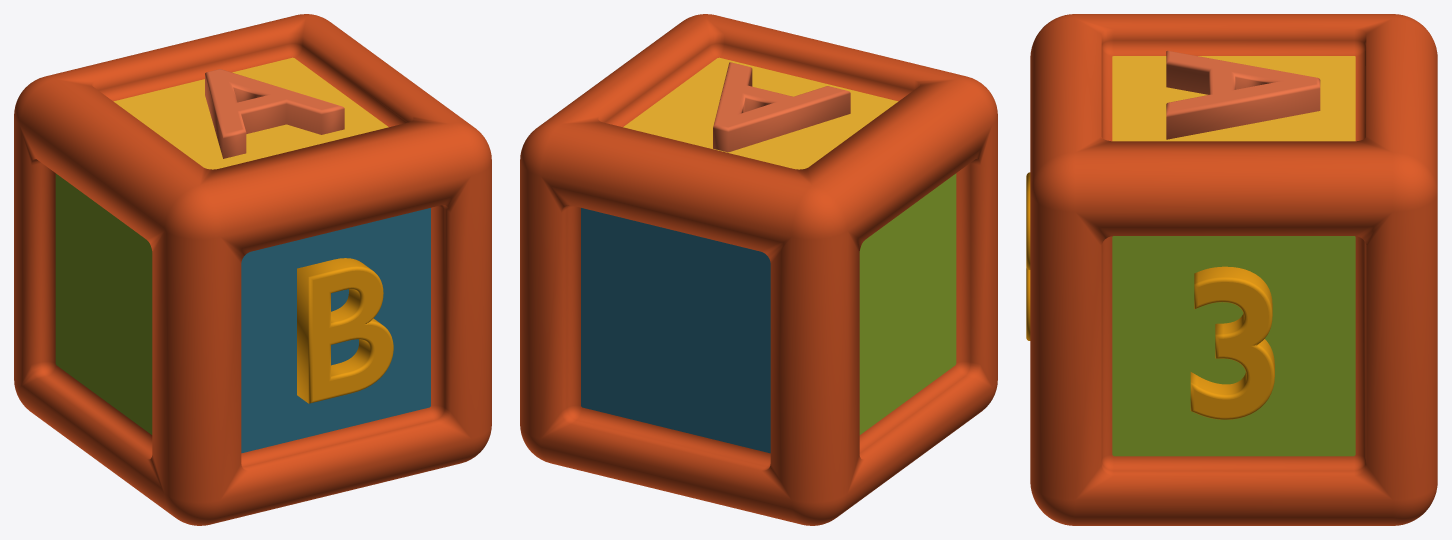
Rendered from ToyBlock_ABC.glb.
3 views of the same model, side by side, from view 1: azimuth 30°, elevation 25°; view 2: azimuth 150°, elevation 25°; view 3: azimuth 270°, elevation 25° (orthographic). The views are drawn at different scales.
Parts seen in each view (by area): view 1: BlockBody, Panel_Blue_Y_neg, Panel_Green_X_neg, Letter_B, Panel_TopYellow, Letter_A; view 2: BlockBody, Panel_Blue_Y_pos, Panel_Green_X_neg, Panel_TopYellow, Letter_A; view 3: BlockBody, Panel_Green_X_pos, Panel_TopYellow, Letter_A, Letter_3, Letter_B.
Part boxes in pixels (x1,y1,x2,y2): BlockBody: (14,14,491,525); Panel_Blue_Y_neg: (241,208,430,453); Panel_Green_X_neg: (55,173,152,434); Letter_B: (297,258,393,403); Panel_TopYellow: (113,57,388,169); Letter_A: (205,69,344,158); BlockBody: (520,14,997,525); Panel_Blue_Y_pos: (581,208,770,453); Panel_Green_X_neg: (859,173,956,434); Panel_TopYellow: (623,57,898,169); Letter_A: (713,62,850,152); BlockBody: (1030,14,1437,525); Panel_Green_X_pos: (1112,236,1355,456); Panel_TopYellow: (1112,56,1355,141); Letter_A: (1166,50,1320,139); Letter_3: (1190,266,1274,419); Letter_B: (1026,172,1030,340).
Bounding box in the file's own units: 2.02 × 2.02 × 2.02.
